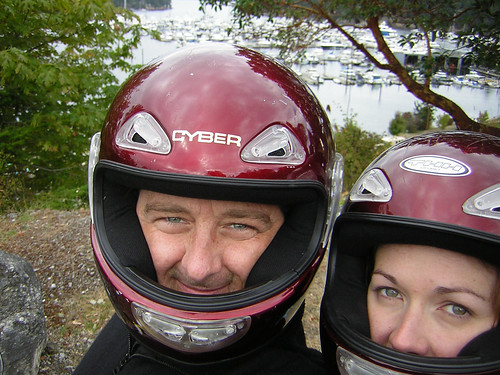helmet: (74, 35, 316, 354), (329, 120, 494, 368)
